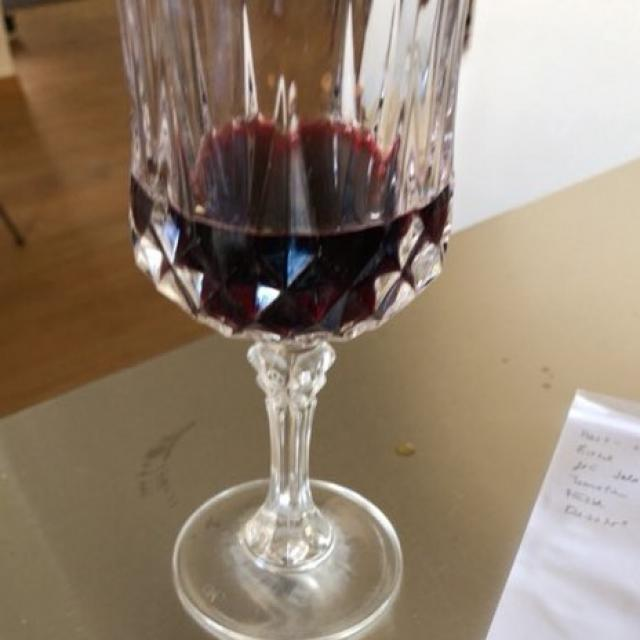wine: (150, 117, 435, 310)
